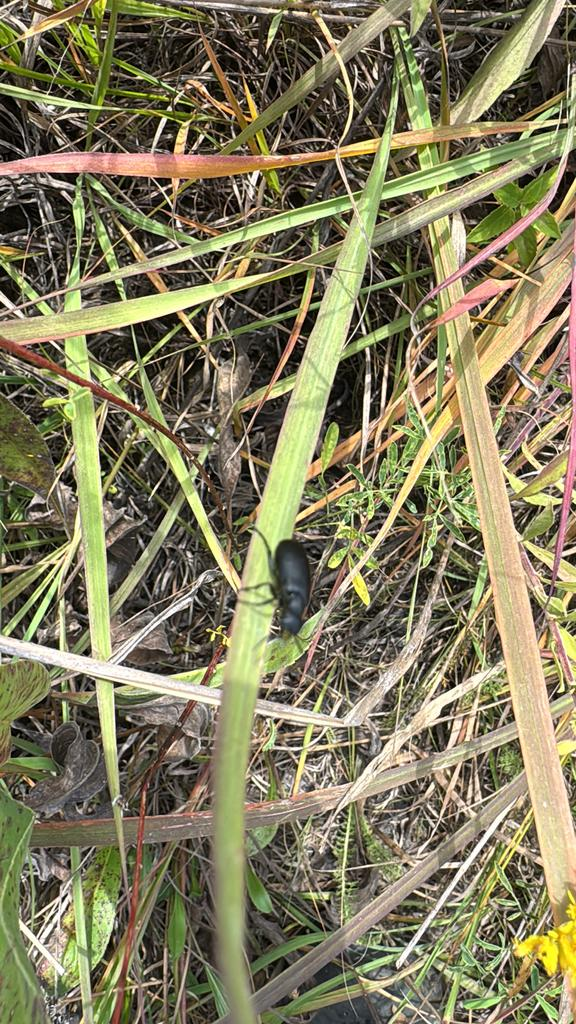blister_beetle: (191, 477, 366, 672)
